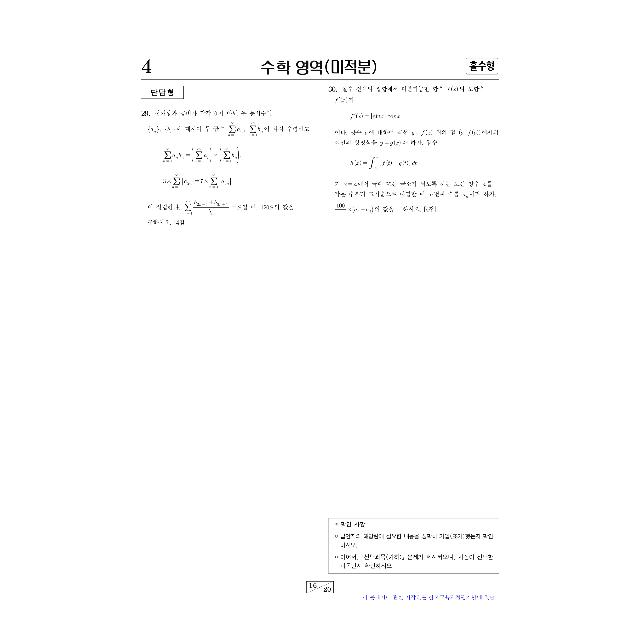short: (324, 82, 511, 230), (137, 104, 316, 228)
